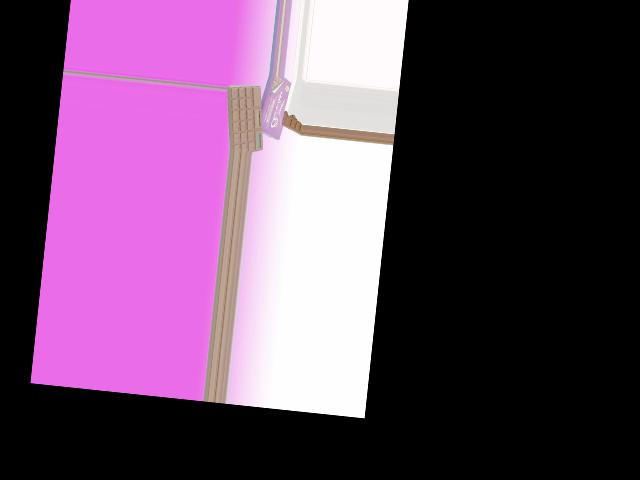chocolate: (220, 83, 270, 151)
